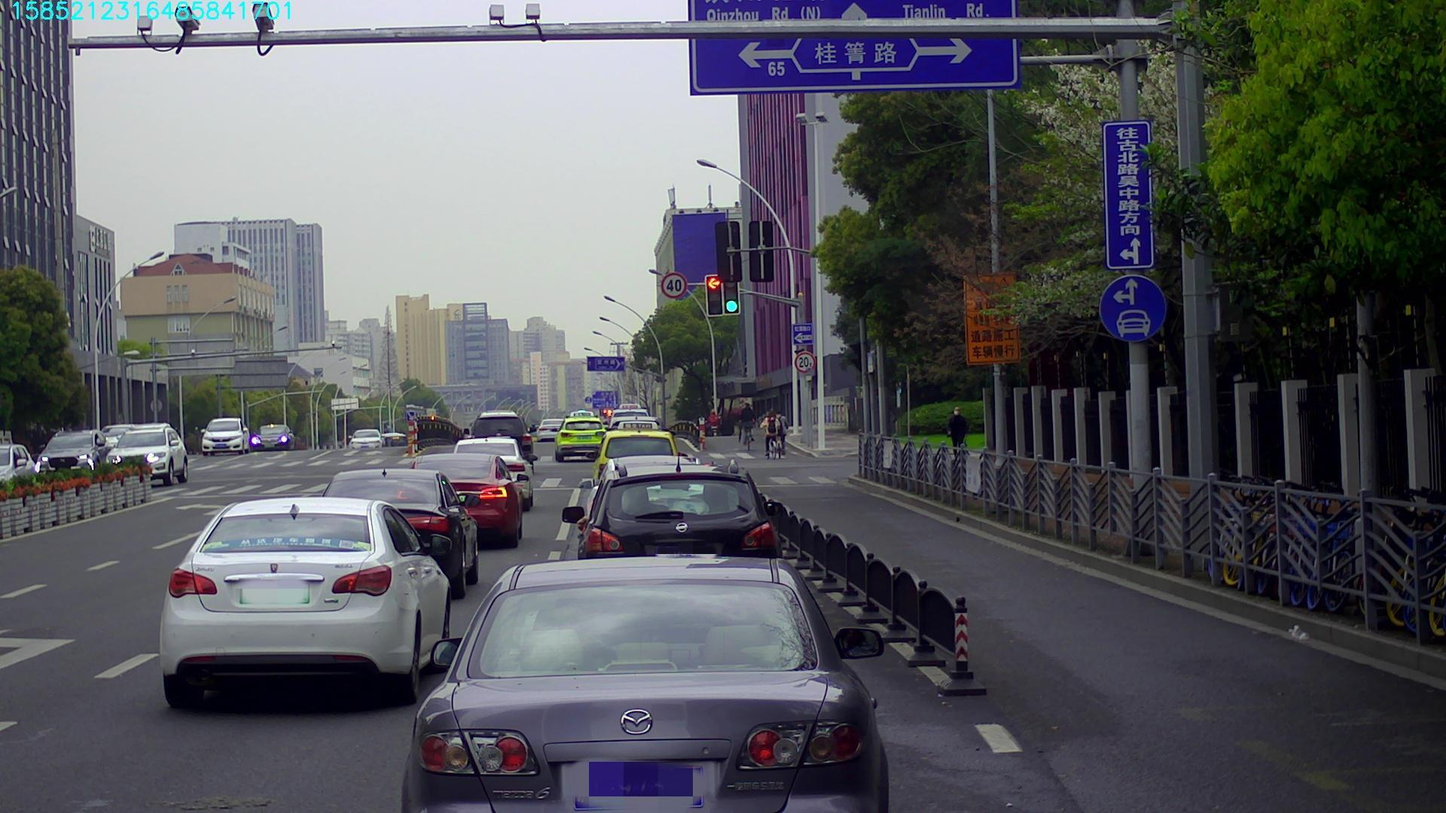green: (721, 273, 740, 314)
red: (704, 274, 723, 315)
